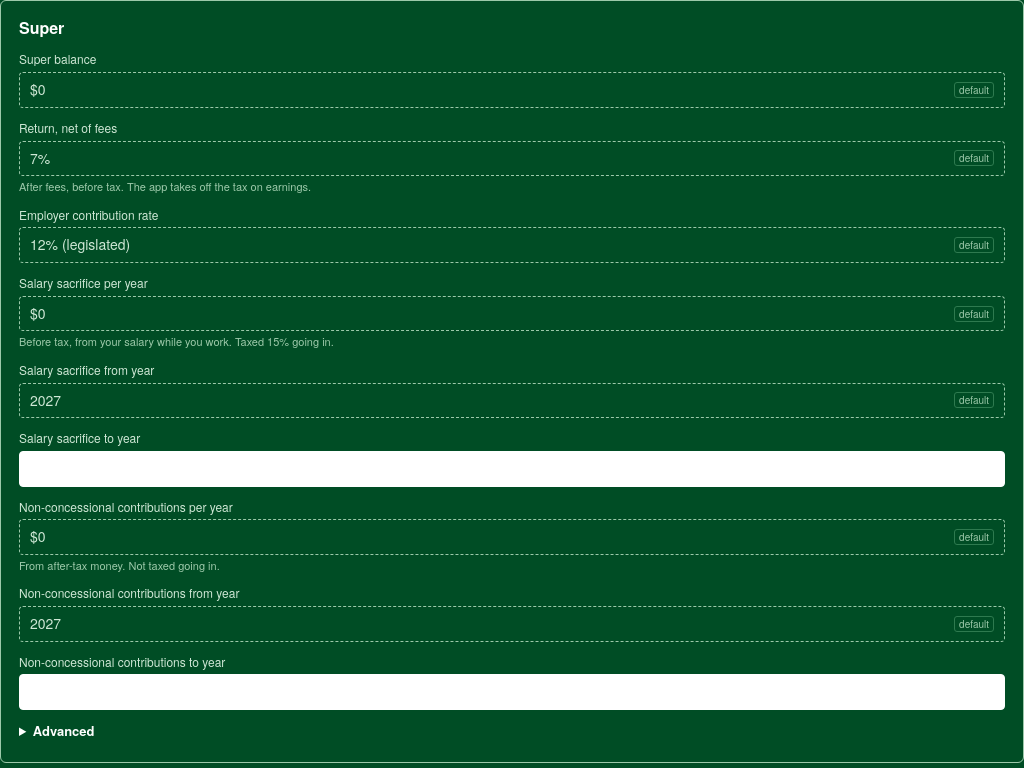
Scenario: SuperSection fields › stores Return, net of fees as a fraction and restores the default
Type "6.5" into the field labelled "Return, net of fees".
click(489, 158); type("6.5")  # box [30,149,948,168]
Then press Enter
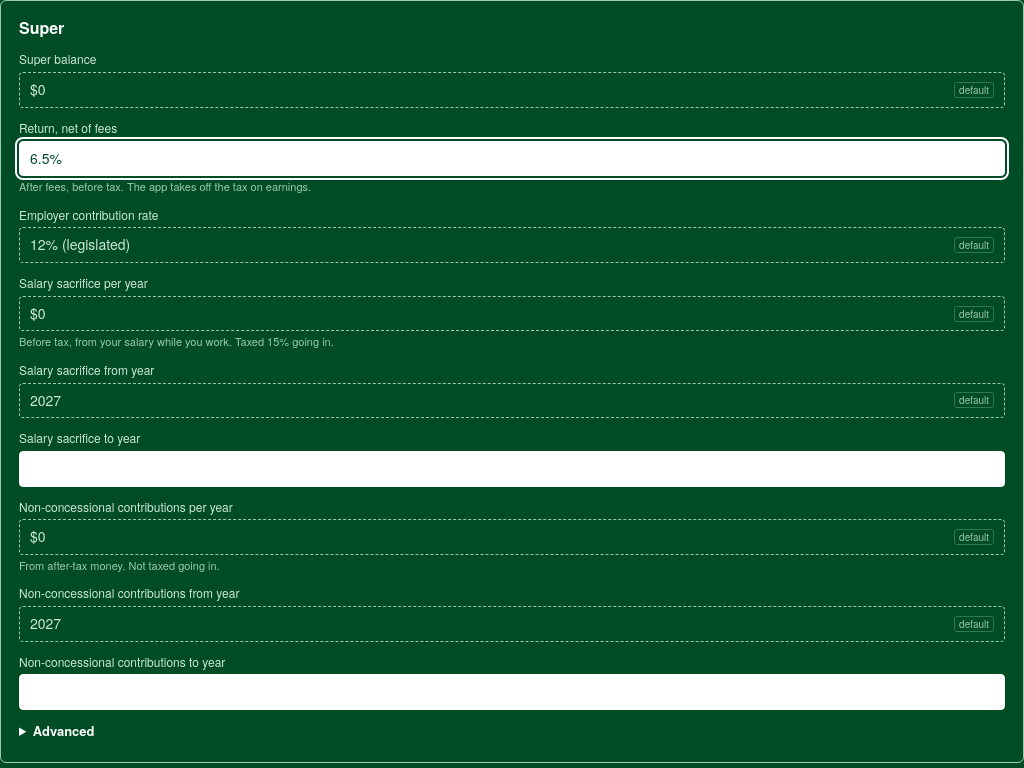
Clear the field labelled "Return, net of fees" at (512, 158), box [30,149,994,168]
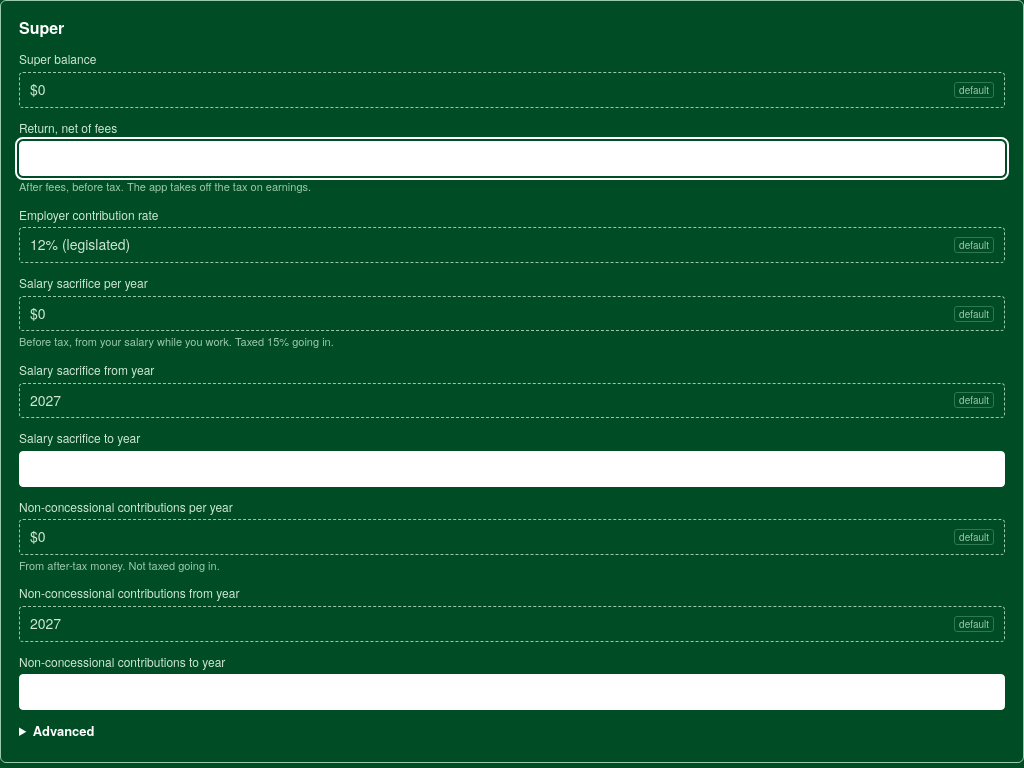
Press Tab
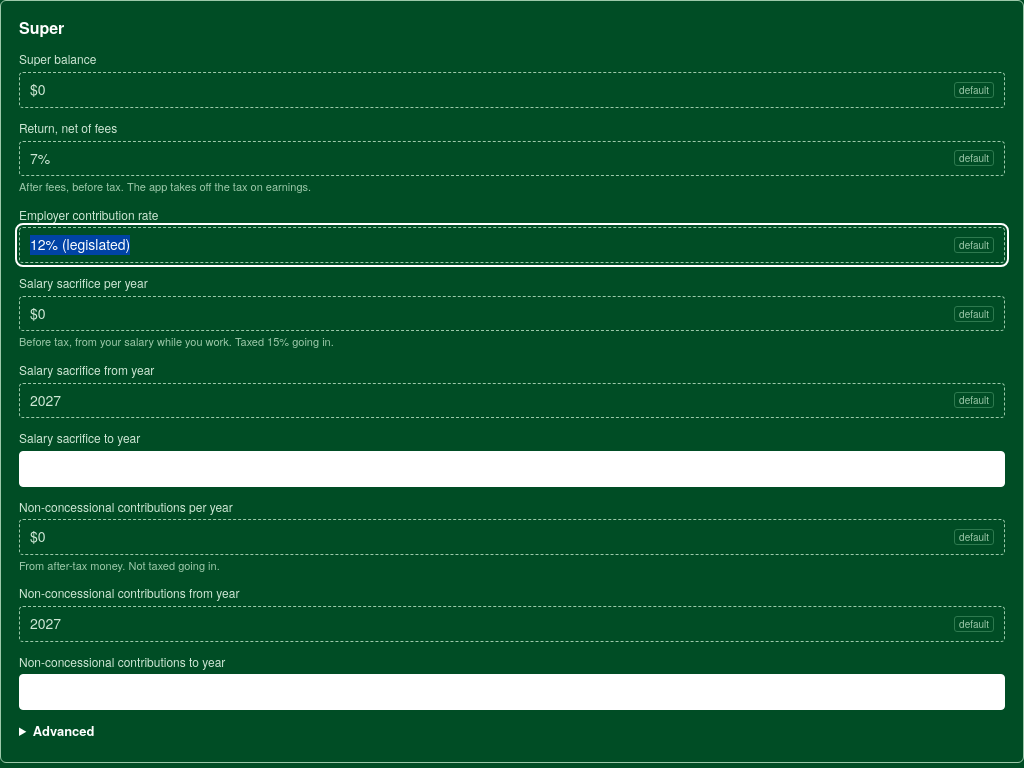
Result: the field labelled "Return, net of fees" holds "7%" at [30,149,948,168]
